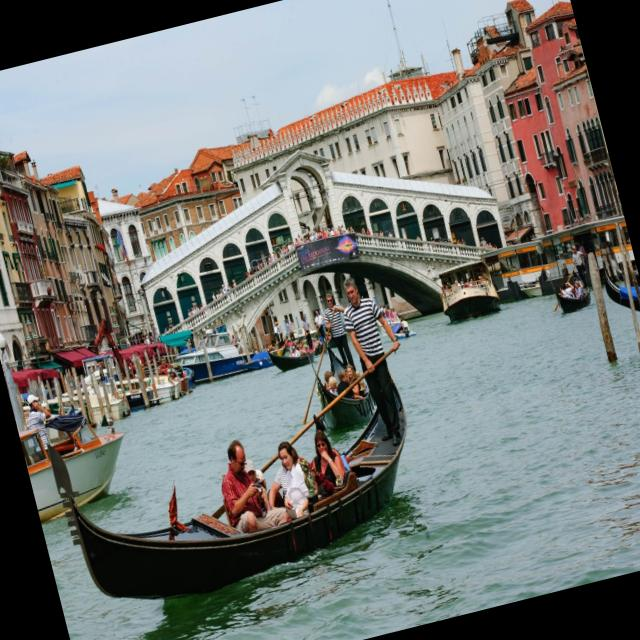boat: (25, 314, 458, 630)
